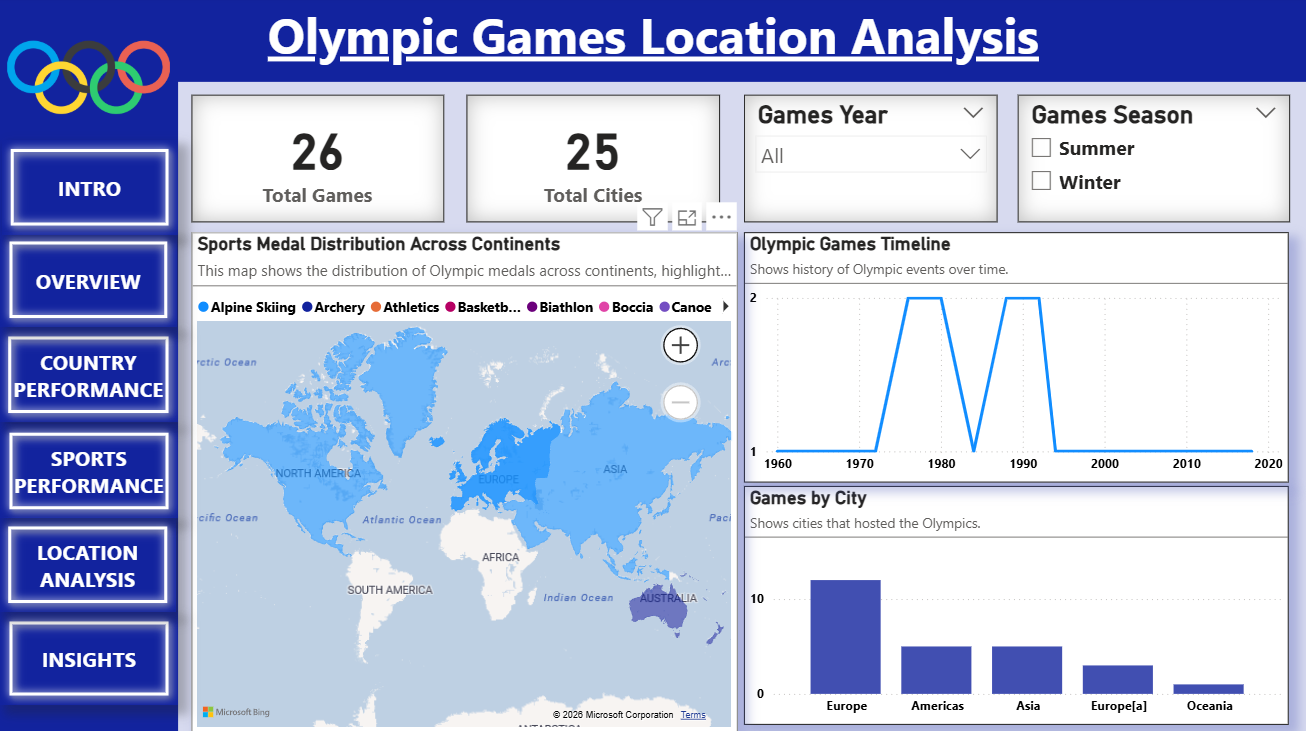

Layout of this report page (visuals, bound fields, positions):
{"tool":"powerbi","page":{"name":"Olympic Games Location Analysis","canvas":[1280,720],"ordinal":5},"visuals":[{"type":"textbox","box":[0,0,1280.3,84.4],"z":0},{"type":"textbox","box":[0,0,174.9,720.2],"z":1000},{"type":"card","fields":{"Values":["Sheet1.Total Games"]},"box":[188.3,96.6,247,124.7],"z":2000},{"type":"card","fields":{"Values":["Sheet1.Total Cities"]},"box":[457.3,96.6,248.2,124.7],"z":3000},{"type":"clusteredColumnChart","title":"Games by City","fields":{"Category":["Sheet1.games_continent"],"Y":["Sheet1.Total Games"]},"box":[728.8,479.4,533.2,233.6],"z":4000},{"type":"lineChart","title":"Olympic Games Timeline","fields":{"Category":["Sheet1.games_year"],"Y":["Sheet1.Total Games"]},"box":[728.8,231.1,533.2,244.6],"z":5000},{"type":"slicer","fields":{"Values":["Sheet1.games_year"]},"box":[728.8,96.6,248.2,124.7],"z":6000},{"type":"slicer","fields":{"Values":["Sheet1.games_season"]},"box":[996.6,96.6,266.6,124.7],"z":7000},{"type":"image","box":[0,0,174.9,159],"z":8000},{"type":"filledMap","title":"Sports Medal Distribution Across Continents","fields":{"Category":["Sheet1.games_continent"],"Series":["Sheet1.sport"]},"box":[188.3,231.1,534.4,489.1],"z":9000},{"type":"actionButton","box":[2.4,140.6,172.4,92.9],"z":10000},{"type":"actionButton","box":[0,324.1,174.9,92.9],"z":11000},{"type":"actionButton","box":[1.2,231.1,172.4,92.9],"z":12000},{"type":"actionButton","box":[1.2,602.9,173.6,90.5],"z":13000},{"type":"actionButton","box":[1.2,418.2,173.6,92.9],"z":14000},{"type":"actionButton","box":[0,509.9,173.6,92.9],"z":15000}]}

Visuals, with their boxes in screenshot pixels (x1, y1, x2, y2), scaled from the page's 1280x720 canvas onto the 1306x731 screenshot:
textbox: box(0, 0, 1305, 86)
textbox: box(0, 0, 178, 730)
card - Sheet1.Total Games: box(192, 98, 444, 225)
card - Sheet1.Total Cities: box(467, 98, 720, 225)
"Games by City" clusteredColumnChart: box(744, 487, 1288, 724)
"Olympic Games Timeline" lineChart: box(744, 235, 1288, 483)
slicer - Sheet1.games_year: box(744, 98, 997, 225)
slicer - Sheet1.games_season: box(1017, 98, 1289, 225)
image: box(0, 0, 178, 161)
"Sports Medal Distribution Across Continents" filledMap: box(192, 235, 737, 730)
actionButton: box(2, 143, 178, 237)
actionButton: box(0, 329, 178, 423)
actionButton: box(1, 235, 177, 329)
actionButton: box(1, 612, 178, 704)
actionButton: box(1, 425, 178, 519)
actionButton: box(0, 518, 177, 612)
